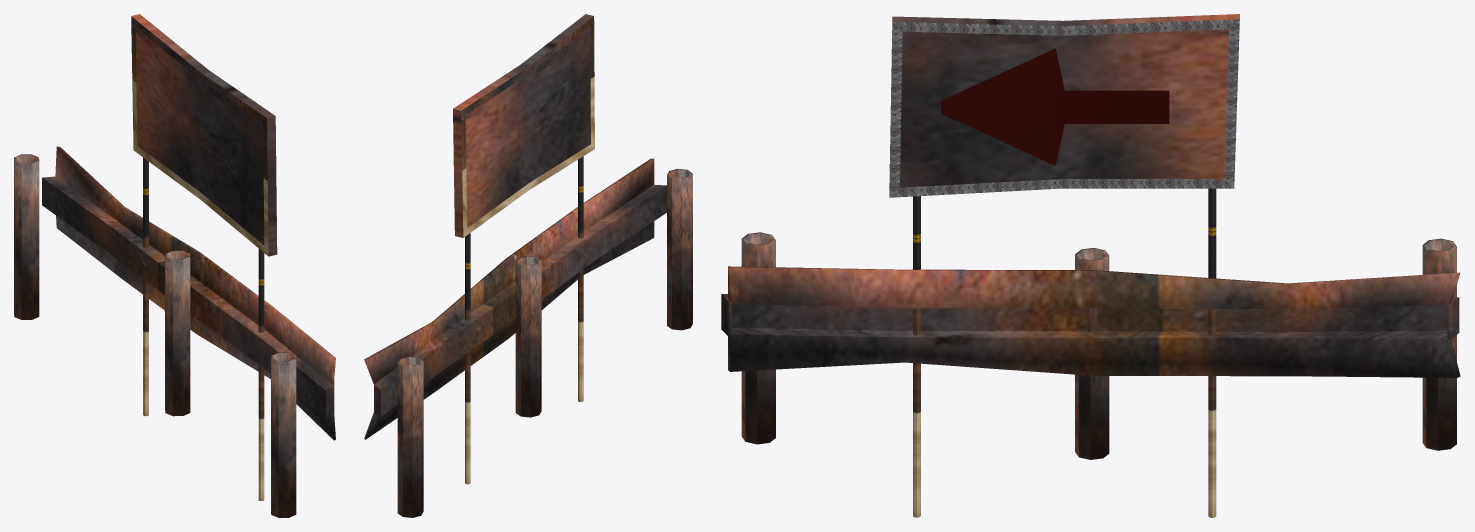
The model's file is Guardrail_r.fbx.
3 renders of one model, left to right at view 1: azimuth 30°, elevation 25°; view 2: azimuth 150°, elevation 25°; view 3: azimuth 270°, elevation 25°, orthographic. The views are drawn at different scales.
Parts seen in each view (by area): view 1: Guardrail.019, Sign.019; view 2: Guardrail.019, Sign.019; view 3: Guardrail.019, Sign.019.
Boxes of the visible parts, x1,y1,x2,y2 form: Guardrail.019: [14, 146, 335, 517]; Sign.019: [131, 14, 277, 500]; Guardrail.019: [364, 158, 692, 517]; Sign.019: [453, 14, 594, 484]; Guardrail.019: [721, 232, 1460, 459]; Sign.019: [889, 14, 1239, 517].
Size of the model in its own units: 64.08 by 384 by 515.
